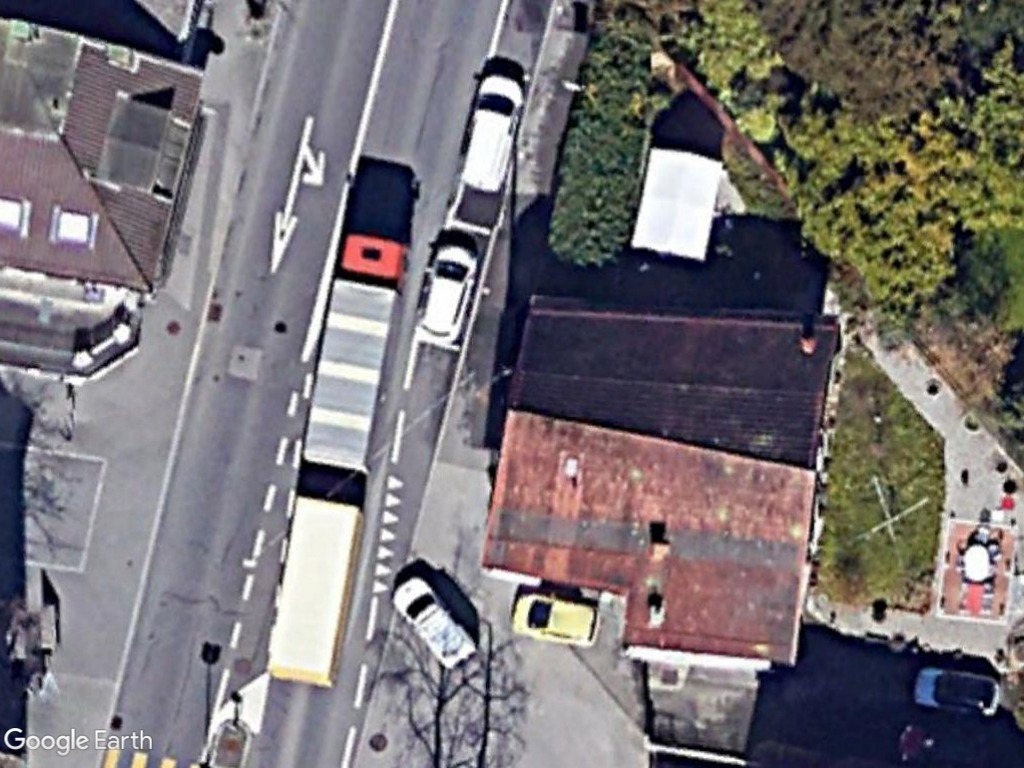car: (413, 236, 481, 347), (508, 589, 606, 652), (908, 660, 1007, 721)
truck: (297, 229, 410, 476)
van: (454, 69, 530, 195), (391, 573, 480, 670)
